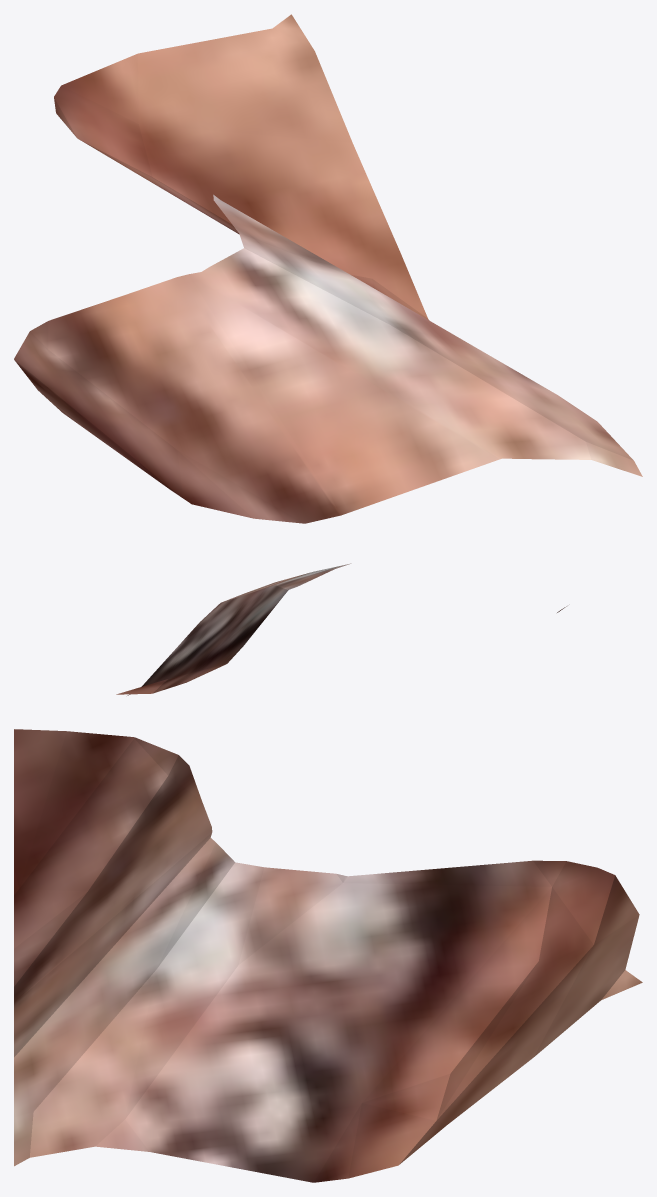
The picture shows the model from 3 angles, top to bottom: view 1: azimuth 30°, elevation 25°; view 2: azimuth 150°, elevation 25°; view 3: azimuth 270°, elevation 25°; orthographic projection. The views are drawn at different scales.
Bounding box in the file's own units: 0.228 × 0.0841 × 0.2392.
1 material, 1 textured.
